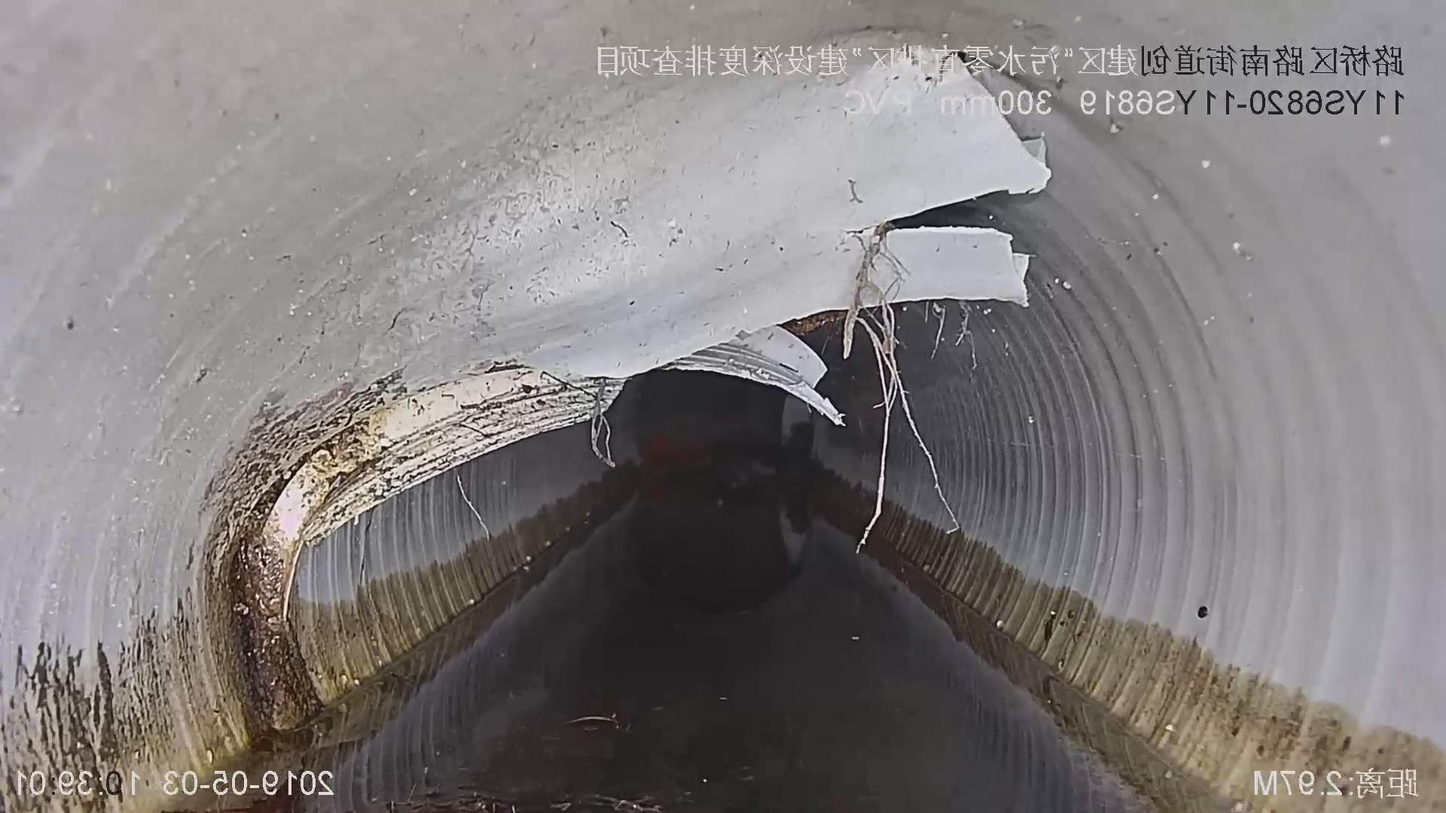JKCL: (185, 24, 1082, 748)
